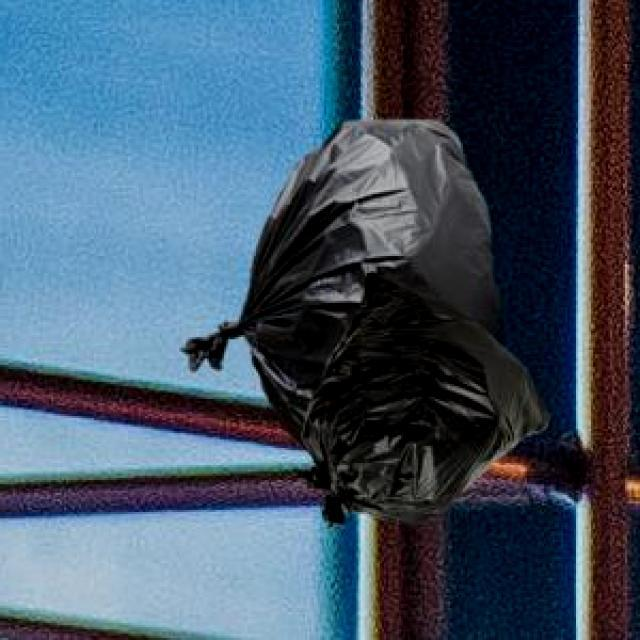Trashbag: (293, 260, 553, 526)
